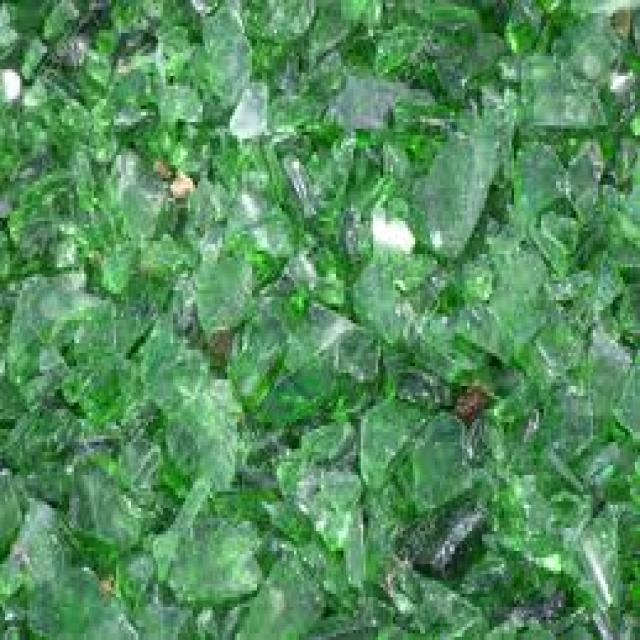glass: (0, 0, 638, 637), (0, 66, 126, 287), (104, 0, 247, 119), (408, 96, 507, 244), (20, 515, 138, 637), (240, 284, 348, 409), (267, 324, 375, 436), (74, 442, 163, 574), (341, 234, 447, 337), (116, 294, 210, 406), (107, 403, 186, 525), (475, 231, 559, 343), (163, 488, 255, 587), (398, 485, 484, 590), (351, 472, 413, 614), (499, 46, 601, 132), (531, 0, 638, 79), (299, 446, 358, 588), (222, 548, 309, 637), (393, 396, 469, 495), (97, 538, 176, 633), (0, 488, 54, 626), (163, 366, 232, 472), (450, 284, 529, 373), (262, 406, 358, 478), (383, 294, 457, 386), (467, 544, 539, 637), (390, 567, 482, 637), (64, 359, 153, 429), (3, 313, 69, 406), (42, 287, 121, 360), (553, 132, 608, 234), (292, 231, 354, 320), (0, 0, 153, 36), (195, 248, 250, 347), (321, 79, 418, 135), (316, 587, 423, 637), (381, 96, 443, 182), (576, 508, 615, 637), (8, 267, 87, 330), (222, 442, 294, 511), (363, 383, 418, 472), (67, 399, 156, 452), (17, 399, 79, 475), (99, 238, 158, 317), (371, 13, 447, 73), (319, 188, 368, 277), (134, 224, 203, 287), (363, 178, 425, 248), (539, 376, 598, 449), (15, 449, 74, 521), (480, 449, 544, 515), (102, 60, 166, 126), (218, 234, 287, 294), (511, 132, 561, 214), (233, 0, 322, 46), (559, 244, 621, 310), (460, 350, 522, 416), (124, 119, 193, 178), (534, 191, 583, 274), (148, 56, 208, 122), (274, 155, 326, 231), (403, 0, 482, 49), (245, 498, 304, 561), (492, 383, 531, 475), (583, 317, 623, 406), (524, 320, 583, 379), (581, 452, 638, 511), (245, 33, 302, 92), (232, 188, 282, 254), (601, 350, 638, 439), (72, 182, 134, 235), (153, 261, 193, 343), (539, 449, 586, 518), (410, 43, 462, 105), (296, 7, 346, 69), (264, 129, 314, 188), (299, 43, 346, 105), (504, 0, 554, 56), (460, 20, 502, 86), (116, 178, 158, 244), (183, 122, 227, 185), (601, 112, 638, 185), (304, 525, 341, 597), (190, 165, 235, 224), (527, 515, 574, 571), (482, 502, 531, 555), (0, 459, 27, 554), (0, 27, 47, 80), (601, 178, 638, 244), (613, 512, 637, 611), (217, 132, 257, 191), (72, 102, 111, 162), (319, 0, 383, 36), (534, 571, 573, 630), (339, 129, 378, 188), (598, 66, 638, 122), (0, 357, 25, 446), (153, 178, 193, 231), (465, 399, 497, 462), (260, 79, 297, 129), (77, 244, 104, 297), (341, 36, 368, 79), (618, 604, 638, 637)
